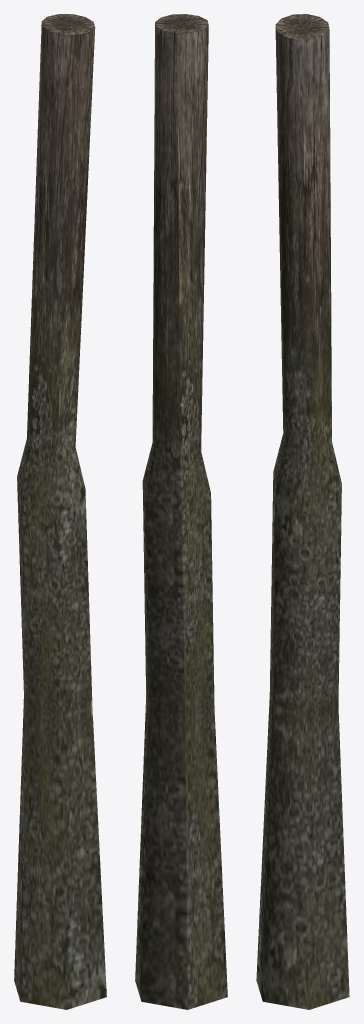
Rendered from eso_gu3_wooddocks6-transformed.glb.
The picture shows the model from 3 angles, left to right: view 1: azimuth 90°, elevation 25°; view 2: azimuth 150°, elevation 25°; view 3: azimuth 330°, elevation 25°; orthographic projection.
Parts seen in each view (by area): view 1: default; view 2: default; view 3: default.
Part boxes in pixels (x1,y1,x2,y2): default: (14,14,106,1009); default: (135,14,227,1009); default: (256,14,349,1009).
Size of the model in its own units: 2.02 by 21.52 by 1.88.
Materials: 1 (1 with a texture image).
